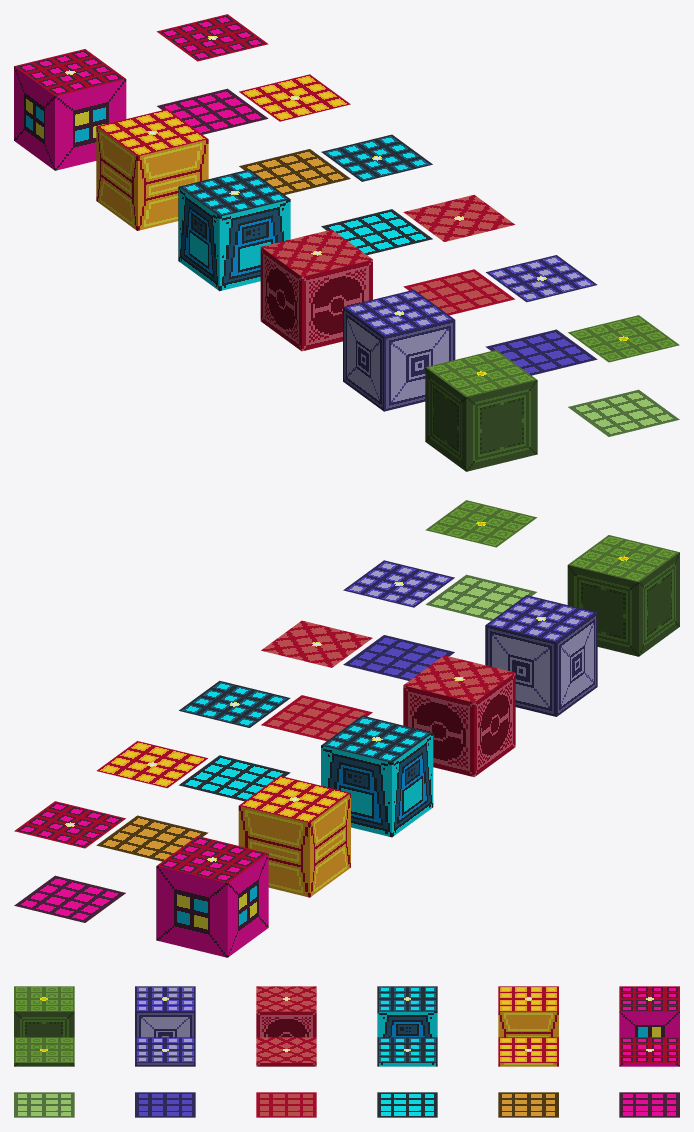
Rendered from LevelTiles.glb.
3 views of the same model, one above another, from view 1: azimuth 30°, elevation 25°; view 2: azimuth 150°, elevation 25°; view 3: azimuth 270°, elevation 25° (orthographic). The views are drawn at different scales.
Parts seen in each view (by area): view 1: Level1Wall.col, Level4Wall.col, Level5Wall.col, Level2Wall.col, Level3Wall.col, Level6Wall.col, Level1Space.col, Level4Space.col, Level6Space.col, Level2Space.col, Level5Space.col, Level3Space.col; view 2: Level6Wall.col, Level3Wall.col, Level2Wall.col, Level4Wall.col, Level5Wall.col, Level1Wall.col, Level6Space.col, Level1Space.col, Level3Space.col, Level2Space.col, Level5Space.col, Level4Space.col; view 3: Level1Wall.col, Level2Wall.col, Level4Wall.col, Level3Wall.col, Level6Wall.col, Level5Wall.col, Level1Space.col, Level2Space.col, Level4Space.col, Level3Space.col, Level6Space.col, Level5Space.col.
Boxes of the visible parts, x1,y1,x2,y2 form: Level1Wall.col: (425,350,537,471); Level4Wall.col: (178,169,290,291); Level5Wall.col: (96,109,208,230); Level2Wall.col: (343,290,455,411); Level3Wall.col: (260,229,372,351); Level6Wall.col: (14,49,126,170); Level1Space.col: (568,315,679,436); Level4Space.col: (321,134,432,255); Level6Space.col: (156,14,268,134); Level2Space.col: (485,255,597,375); Level5Space.col: (239,74,350,194); Level3Space.col: (403,194,514,315); Level6Wall.col: (156,836,268,957); Level3Wall.col: (403,655,515,777); Level2Wall.col: (485,595,597,716); Level4Wall.col: (321,715,433,837); Level5Wall.col: (238,776,350,897); Level1Wall.col: (567,535,679,656); Level6Space.col: (14,801,125,922); Level1Space.col: (425,500,537,620); Level3Space.col: (261,620,372,741); Level2Space.col: (343,560,454,680); Level5Space.col: (96,741,208,861); Level4Space.col: (179,680,290,801); Level1Wall.col: (14,986,74,1066); Level2Wall.col: (135,986,195,1066); Level4Wall.col: (377,986,437,1066); Level3Wall.col: (256,986,316,1066); Level6Wall.col: (619,986,679,1066); Level5Wall.col: (498,986,558,1066); Level1Space.col: (14,1037,74,1117); Level2Space.col: (135,1037,195,1117); Level4Space.col: (377,1037,437,1117); Level3Space.col: (256,1037,316,1117); Level6Space.col: (619,1037,679,1117); Level5Space.col: (498,1037,558,1117).
Size of the model in its own units: 3 by 1 by 11.
Materials: 6 (6 with a texture image).
